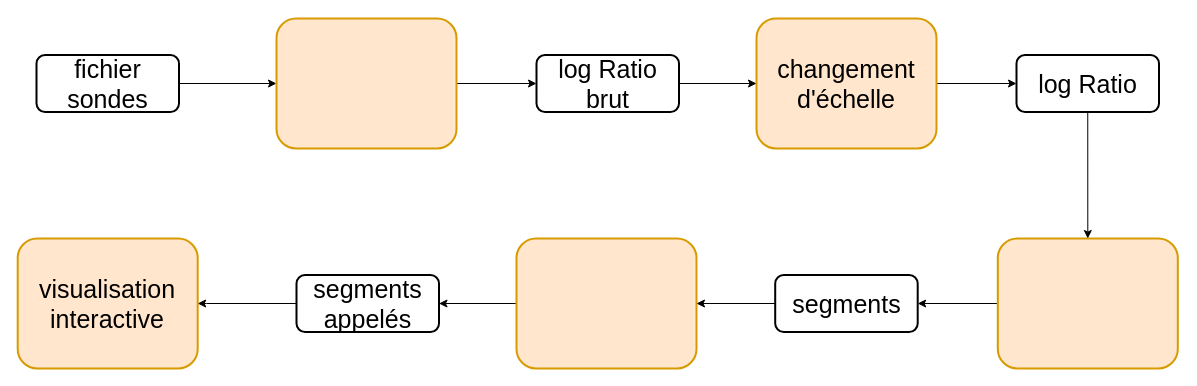
The diagram is 1197 pixels wide and 386 high, and some of its shapes have lost their labels. Here are the shapes that lost their labels. From the top down, the centre of each, then its label:
pixel 366 83: conversion
pixel 606 303: normalisation estimation nombre de copies
pixel 1087 303: segmentation CBS
